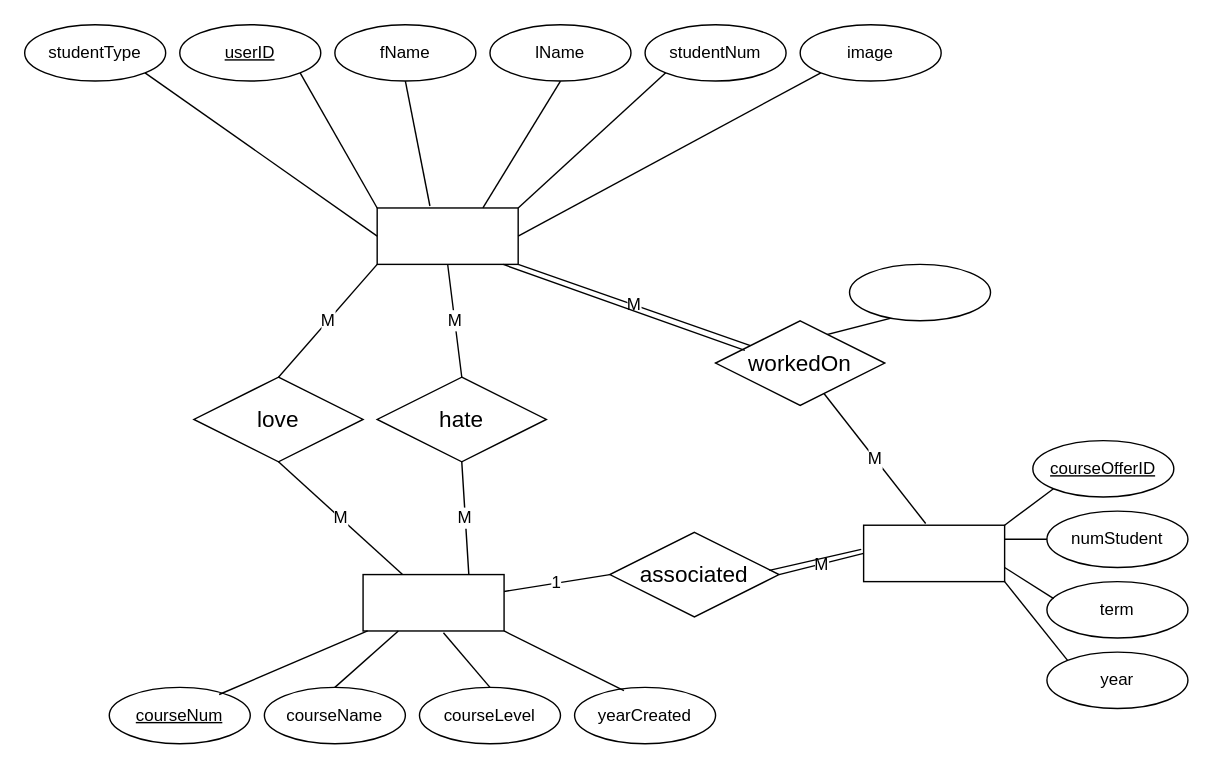
Some shapes in this 1213 by 768 pixel diagram are drawn without their labels. The shapes that lost their labels are listed below. From the top down, each one's centre as x and y in pixels, then its label:
At pixel 447 235: "TA".
At pixel 919 292: "Hours".
At pixel 933 553: "CourseOffering".
At pixel 433 602: "Course".
